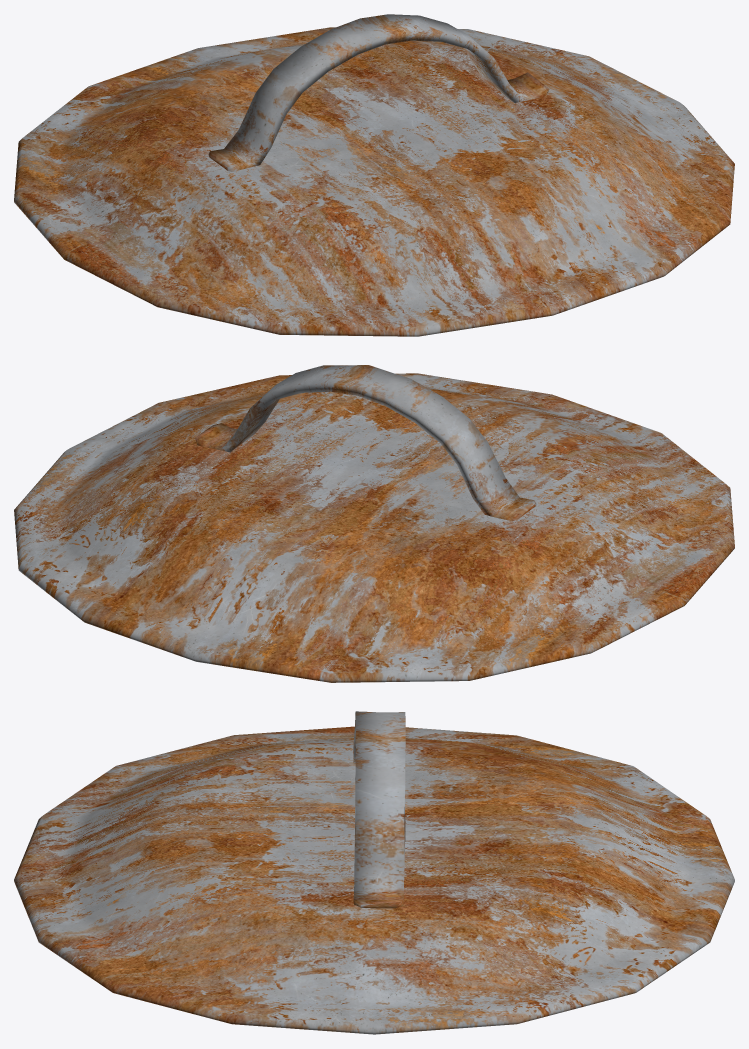
File: SM_pot05.fbx
The picture shows the model from 3 angles, top to bottom: view 1: azimuth 30°, elevation 25°; view 2: azimuth 150°, elevation 25°; view 3: azimuth 270°, elevation 25°; orthographic projection.
Parts seen in each view (by area): view 1: SM_pot05_LOD0; view 2: SM_pot05_LOD0; view 3: SM_pot05_LOD0.
Boxes of the visible parts, bbox=[...] form: SM_pot05_LOD0: bbox=[14, 14, 734, 336]; SM_pot05_LOD0: bbox=[14, 365, 734, 682]; SM_pot05_LOD0: bbox=[14, 711, 734, 1034].
Size of the model in its own units: 42.12 by 42.12 by 10.23.
